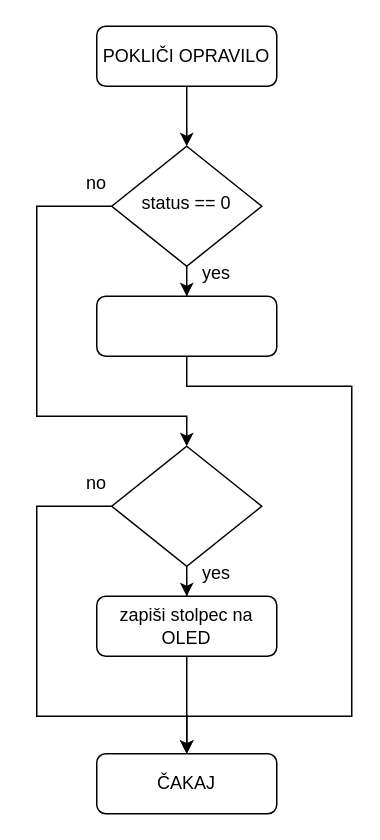
This 380x840 diagram has some shape labels left out. Each missing label, with the centre of its shape:
pobriši OLED: the point at 186,325
status < 4: the point at 186,505
